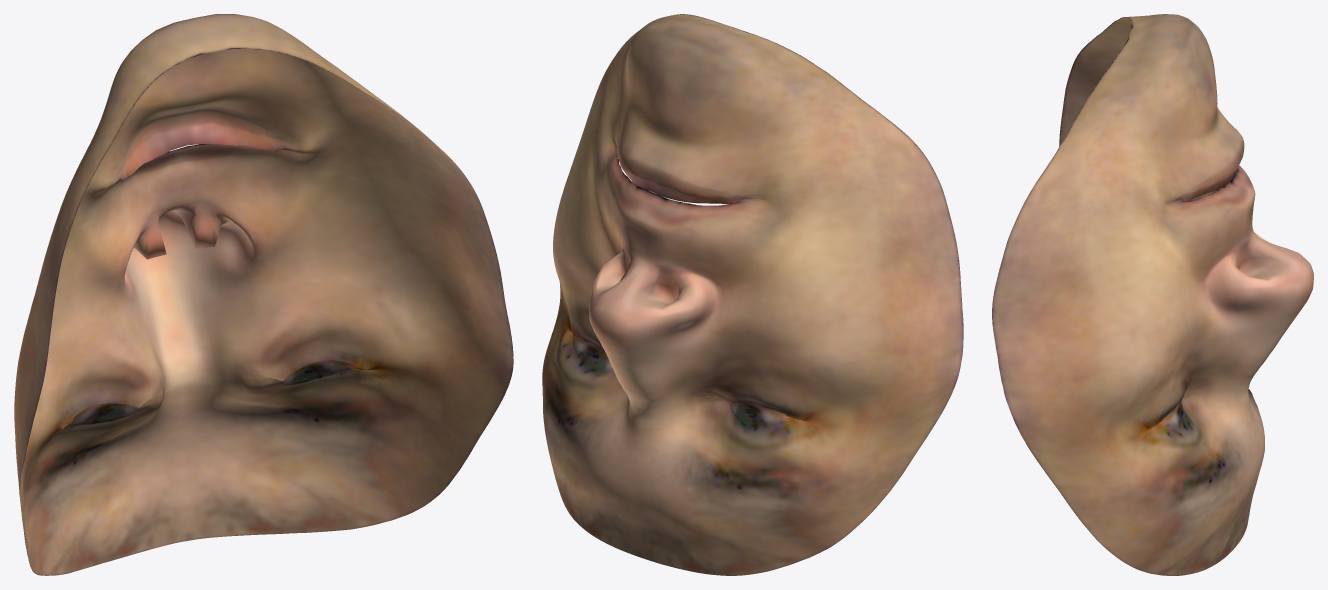
Rendered from NextFace.glb.
3 renders of one model, left to right at view 1: azimuth 30°, elevation 25°; view 2: azimuth 150°, elevation 25°; view 3: azimuth 270°, elevation 25°, orthographic. The views are drawn at different scales.
Visible parts, largest first — view 1: mesh0.005; view 2: mesh0.005; view 3: mesh0.005.
Boxes of the visible parts, left/top/right/bottom form: mesh0.005: left=14, top=14, right=513, bottom=575; mesh0.005: left=542, top=14, right=963, bottom=575; mesh0.005: left=992, top=14, right=1313, bottom=575.
Size of the model in its own units: 0.849 by 1 by 0.5937.
1 material, 1 textured.
